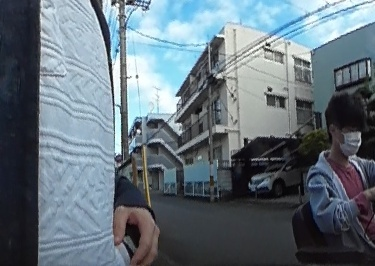person: (303, 86, 375, 263)
